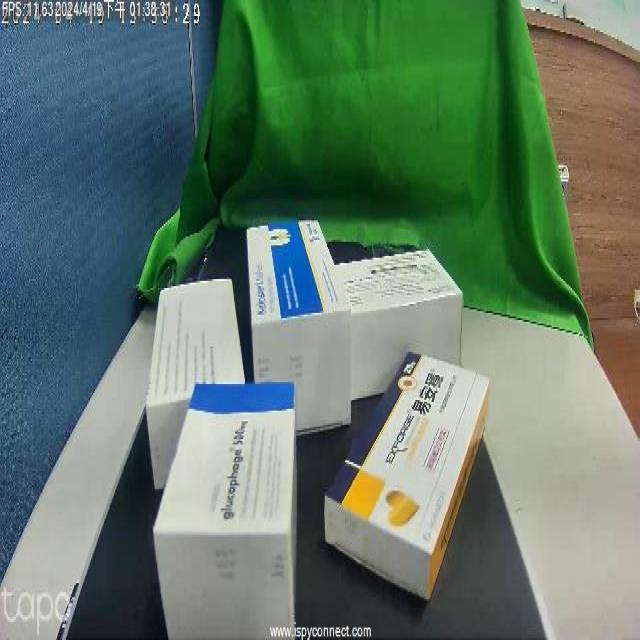box: (170, 386, 300, 628), (354, 360, 478, 584), (236, 210, 328, 394), (146, 258, 236, 437), (330, 261, 445, 400)
